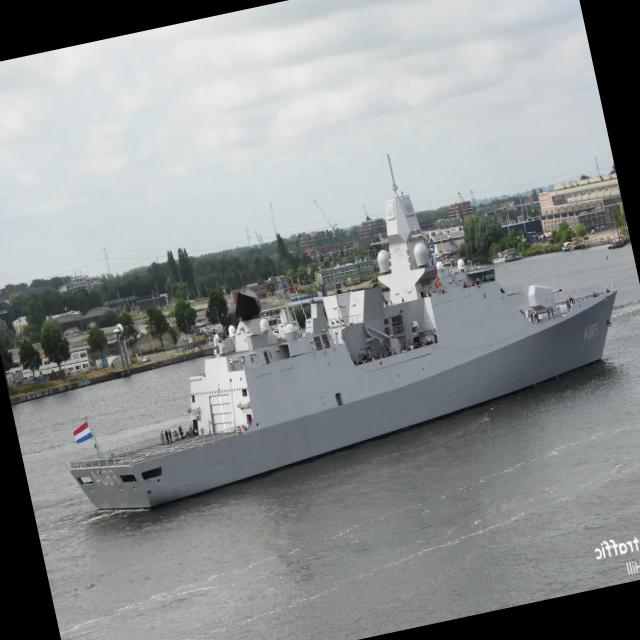Military: (70, 194, 616, 507)
